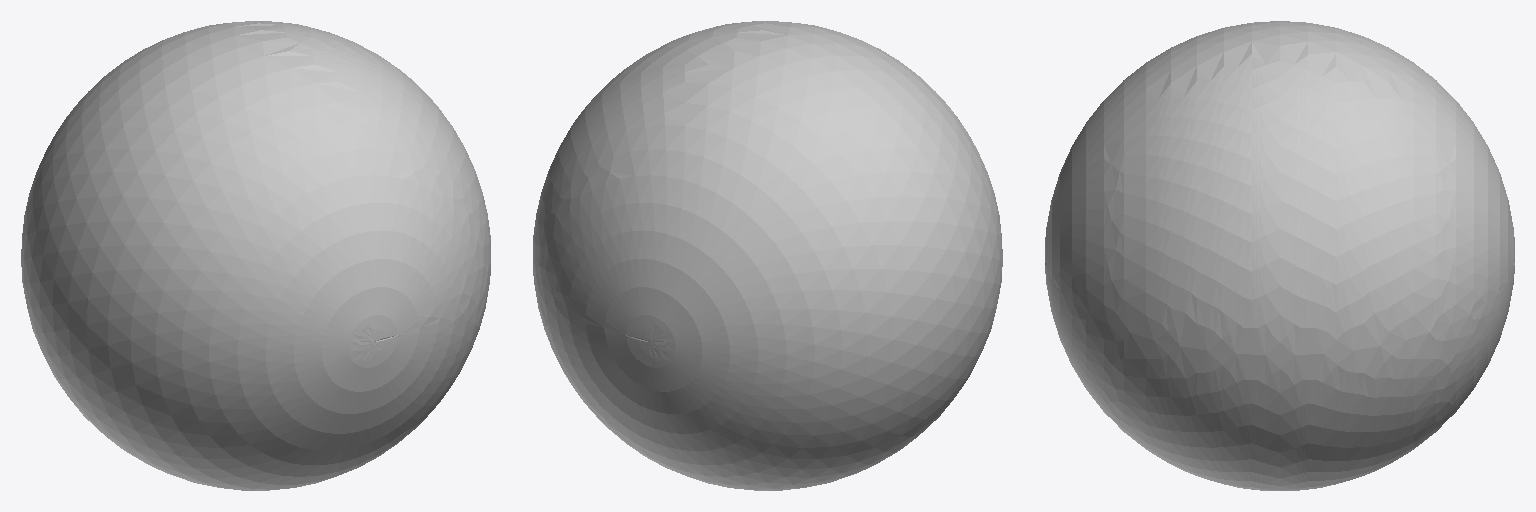
The model's file is sphere-with-normals.obj.
The picture shows the model from 3 angles: view 1: azimuth 30°, elevation 25°; view 2: azimuth 150°, elevation 25°; view 3: azimuth 270°, elevation 25°; orthographic projection.
Size of the model in its own units: 44.52 by 44.54 by 44.56.